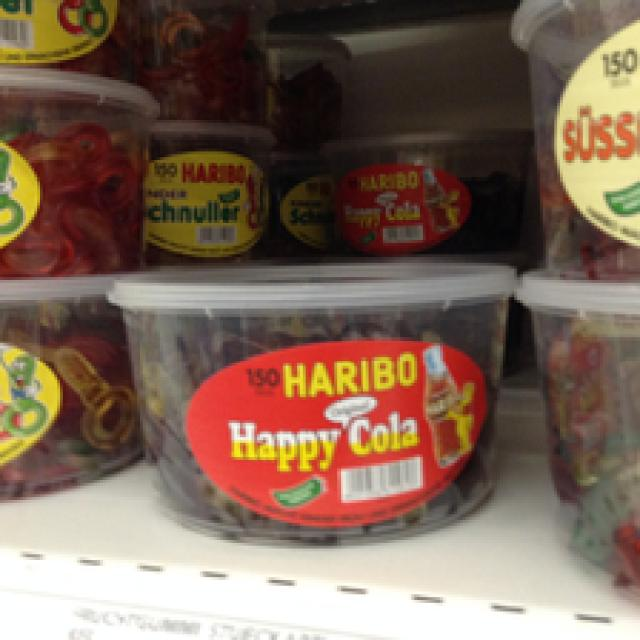groceries: (123, 246, 517, 531), (423, 260, 637, 569), (489, 0, 637, 263), (0, 268, 151, 520), (0, 69, 163, 268)
